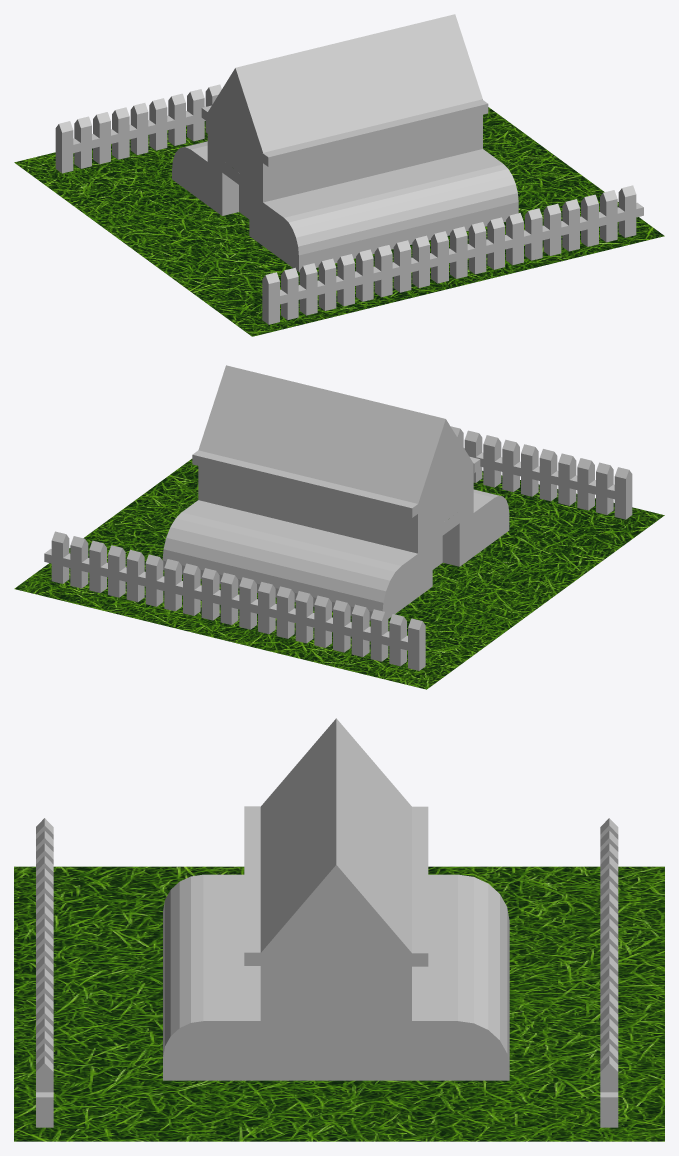
The model's file is CASA.fbx.
The picture shows the model from 3 angles, top to bottom: view 1: azimuth 30°, elevation 25°; view 2: azimuth 150°, elevation 25°; view 3: azimuth 270°, elevation 25°; orthographic projection. The views are drawn at different scales.
Visible parts, largest first — view 1: CASA, PASTO, VALLA, TECHO, VENTANA; view 2: PASTO, CASA, VALLA, TECHO, VENTANA; view 3: PASTO, CASA, TECHO, VALLA.
Boxes of the visible parts, box(x1,y1,x2,y2) form: CASA: box(172, 90, 518, 271); PASTO: box(14, 107, 664, 336); VALLA: box(55, 84, 643, 324); TECHO: box(201, 14, 488, 166); VENTANA: box(222, 128, 249, 179); PASTO: box(14, 459, 664, 689); CASA: box(162, 441, 509, 620); VALLA: box(44, 426, 632, 670); TECHO: box(192, 365, 480, 517); VENTANA: box(432, 479, 459, 530); PASTO: box(14, 866, 664, 1141); CASA: box(163, 874, 509, 1080); TECHO: box(244, 718, 428, 966); VALLA: box(36, 818, 618, 1127).
Size of what is drawn, in the model's own units: 2000 by 765 by 2000.
